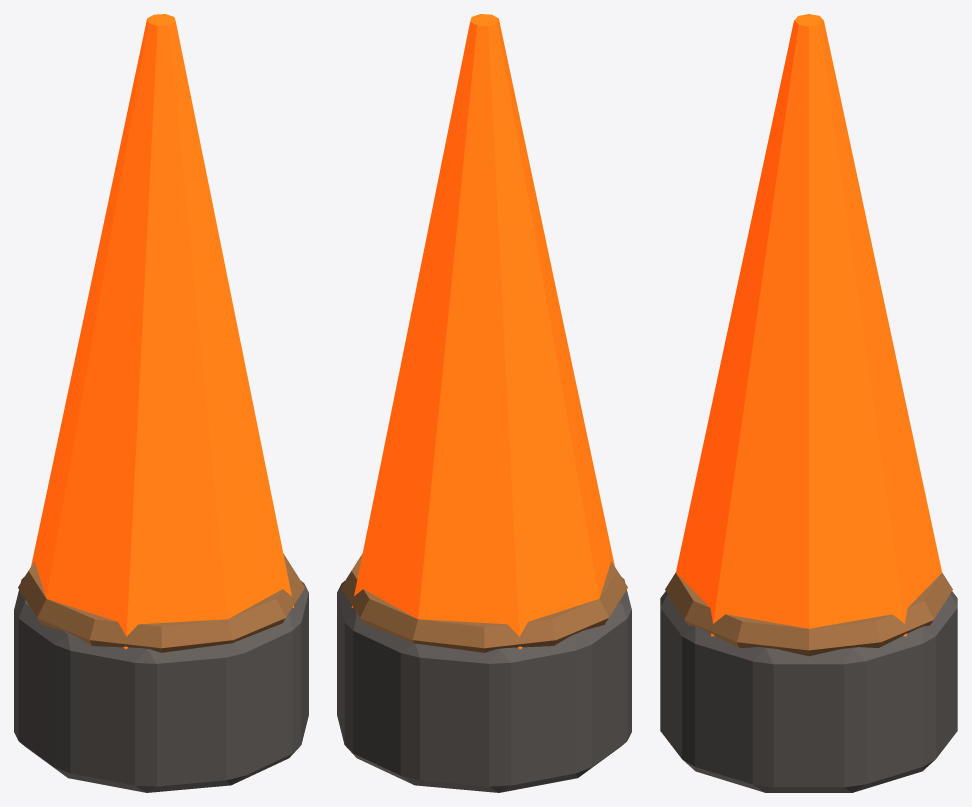
The model's file is fire_jet.glb.
3 renders of one model, left to right at view 1: azimuth 30°, elevation 25°; view 2: azimuth 150°, elevation 25°; view 3: azimuth 270°, elevation 25°, orthographic.
Visible parts, largest first — view 1: ANIM_flame, GEO_iron, GEO_copper; view 2: ANIM_flame, GEO_iron, GEO_copper; view 3: ANIM_flame, GEO_iron, GEO_copper.
Part boxes in pixels (left/top/right/bottom): ANIM_flame: left=31, top=14, right=294, bottom=649; GEO_iron: left=14, top=576, right=308, bottom=792; GEO_copper: left=18, top=553, right=304, bottom=652; ANIM_flame: left=351, top=14, right=614, bottom=649; GEO_iron: left=337, top=576, right=631, bottom=792; GEO_copper: left=341, top=553, right=627, bottom=652; ANIM_flame: left=676, top=14, right=941, bottom=636; GEO_iron: left=660, top=591, right=957, bottom=792; GEO_copper: left=665, top=572, right=952, bottom=656.
Size of the model in its own units: 0.875 by 2.39 by 0.8984.
